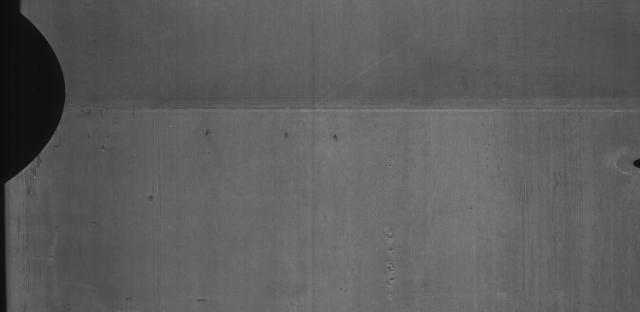punching_hole: (626, 149, 640, 173)
welding_line: (58, 106, 640, 128)
